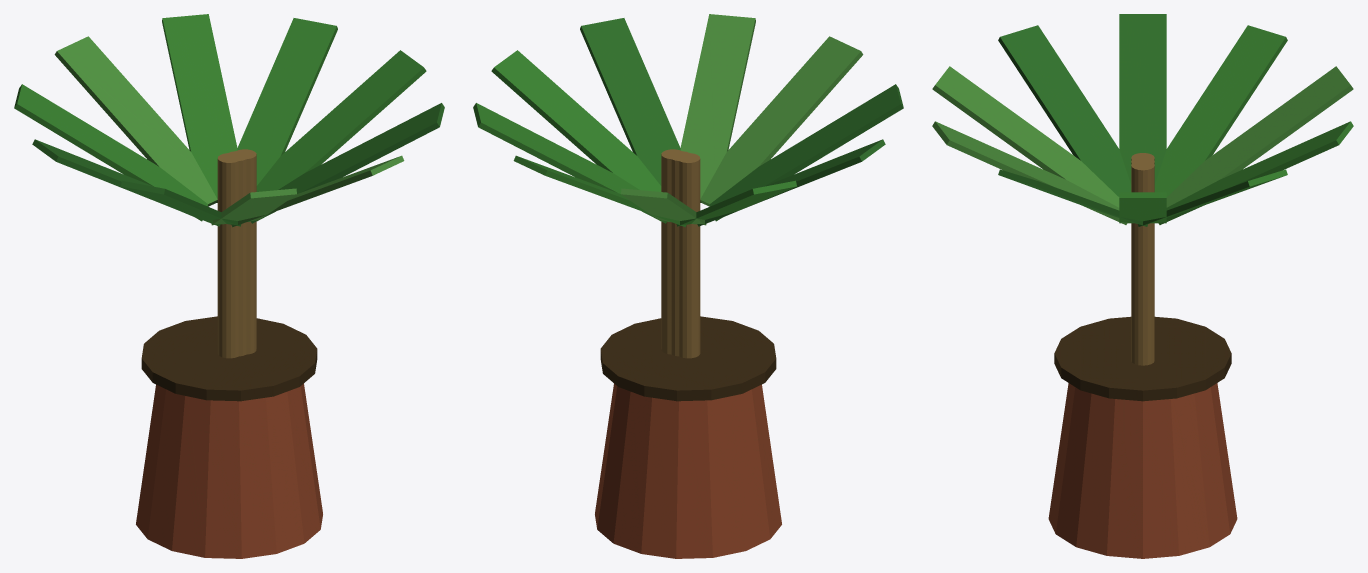
Rendered from potted-palm.glb.
3 renders of one model, left to right at view 1: azimuth 30°, elevation 25°; view 2: azimuth 150°, elevation 25°; view 3: azimuth 270°, elevation 25°, orthographic.
Visible parts, largest first — view 1: Cone; view 2: Cone; view 3: Cone.
Boxes of the visible parts, left/top/right/bottom form: Cone: left=14, top=14, right=444, bottom=558; Cone: left=473, top=14, right=903, bottom=558; Cone: left=932, top=14, right=1353, bottom=558.
Size of the model in its own units: 0.9327 by 1 by 0.9188.
1 material, 1 textured.
